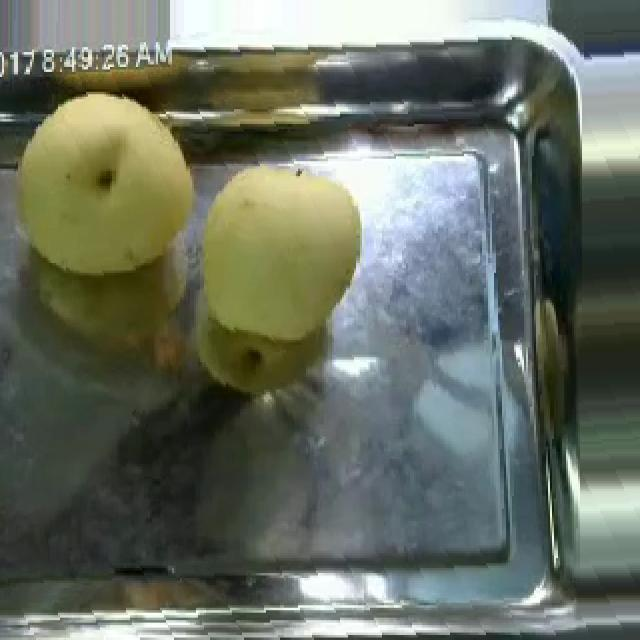Fruit: (2, 77, 208, 300), (178, 146, 376, 352)
